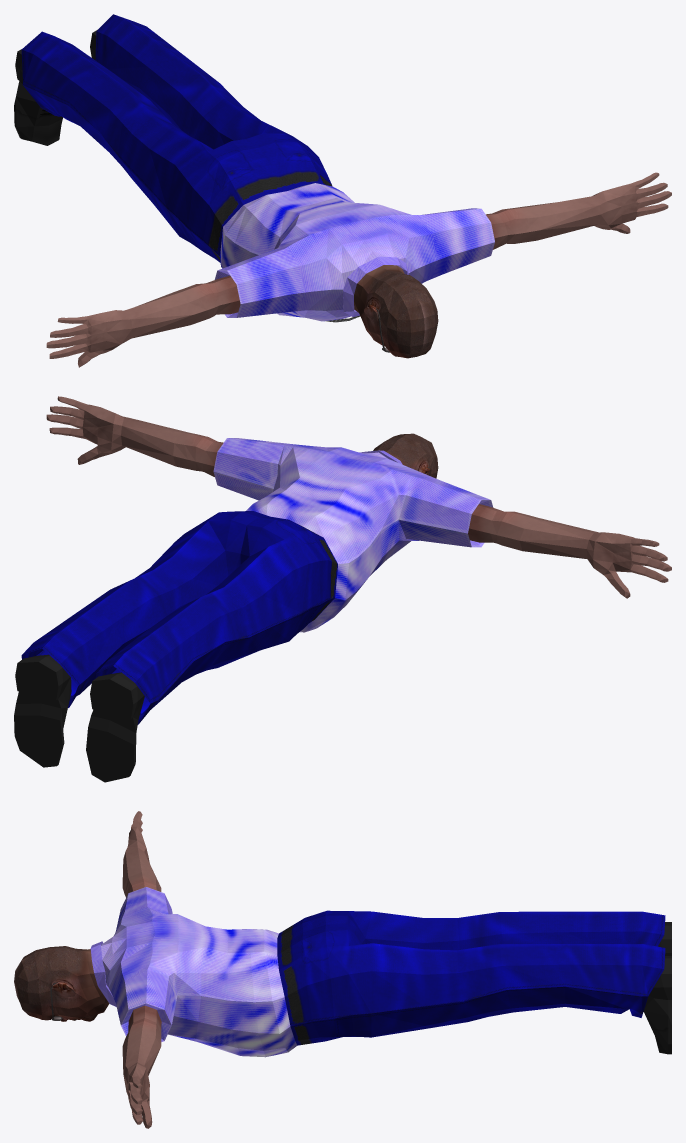
The model's file is tomdrinman2_3kblacknblue_wtf.obj.
3 renders of one model, top to bottom at view 1: azimuth 30°, elevation 25°; view 2: azimuth 150°, elevation 25°; view 3: azimuth 270°, elevation 25°, orthographic. The views are drawn at different scales.
Visible parts, largest first — view 1: group1; view 2: group1; view 3: group1.
Boxes of the visible parts, <box> form: group1: <box>14,14,671,367</box>; group1: <box>14,396,671,782</box>; group1: <box>14,811,671,1128</box>.
Bounding box in the file's own units: 660 × 141 × 641.
